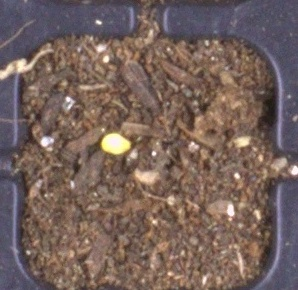chilli seed: (100, 132, 131, 155)
